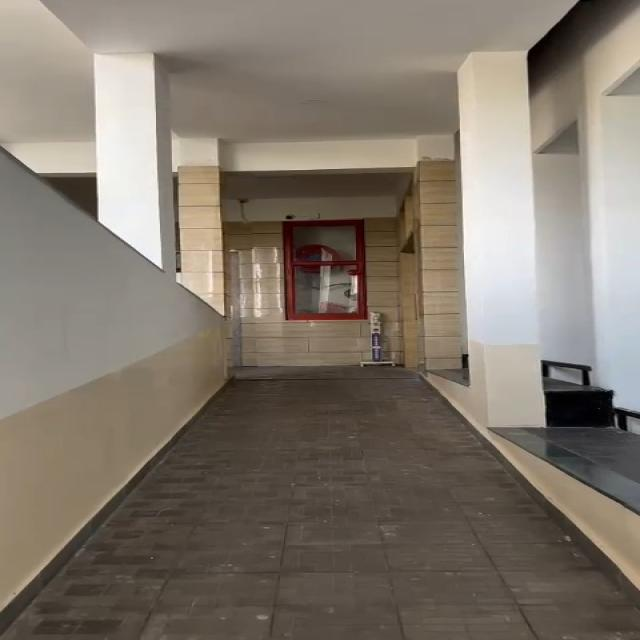floor: (102, 473, 611, 640), (211, 361, 428, 495)
wall: (400, 35, 640, 435), (0, 7, 210, 452)
